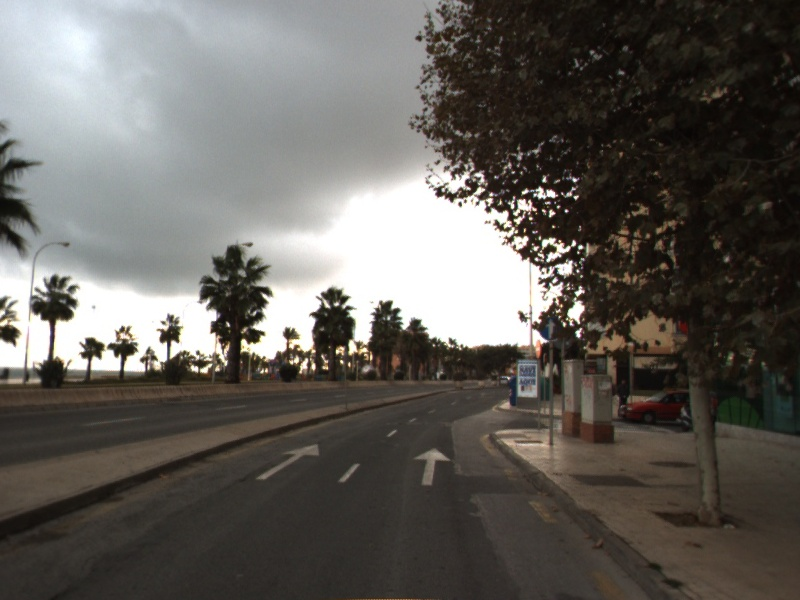STRAIGHT: (255, 442, 321, 481), (411, 446, 453, 487)
